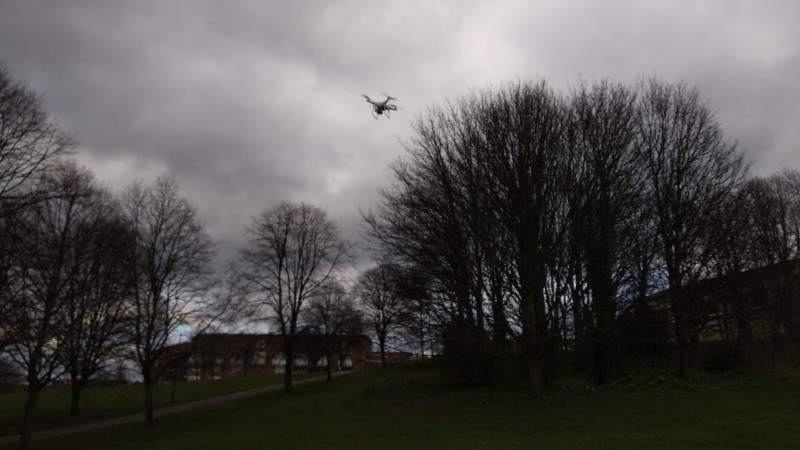drone: (361, 93, 400, 120)
